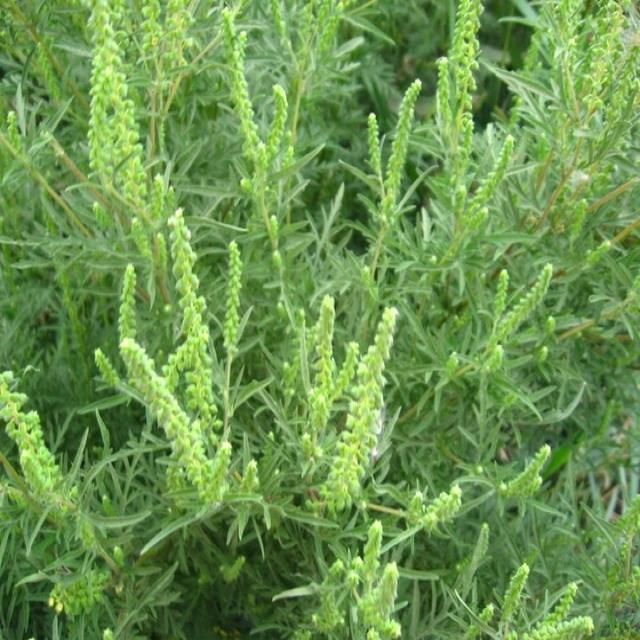ambrosia: (90, 191, 259, 533), (280, 262, 421, 640), (368, 7, 526, 250), (194, 0, 308, 207), (0, 354, 78, 612), (58, 0, 161, 187), (451, 523, 589, 640), (464, 255, 556, 396)
